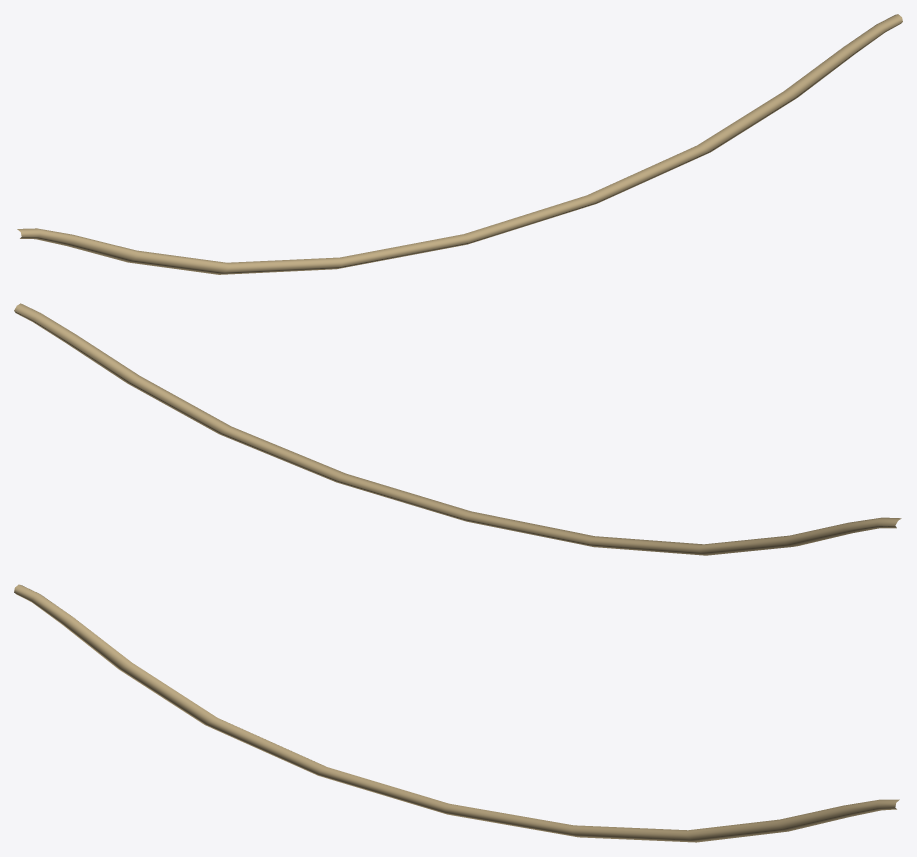
The model's file is ChineseLampRopeMedium_01.glb.
3 renders of one model, top to bottom at view 1: azimuth 30°, elevation 25°; view 2: azimuth 150°, elevation 25°; view 3: azimuth 330°, elevation 25°, orthographic.
Visible parts, largest first — view 1: ChineseLampRopeMedium_01; view 2: ChineseLampRopeMedium_01; view 3: ChineseLampRopeMedium_01.
Boxes of the visible parts, left/top/right/bottom form: ChineseLampRopeMedium_01: left=17, top=14, right=902, bottom=274; ChineseLampRopeMedium_01: left=14, top=303, right=901, bottom=555; ChineseLampRopeMedium_01: left=14, top=584, right=899, bottom=842.
Bounding box in the file's own units: 3 × 0.3735 × 0.094.
Materials: 1 (1 with a texture image).
